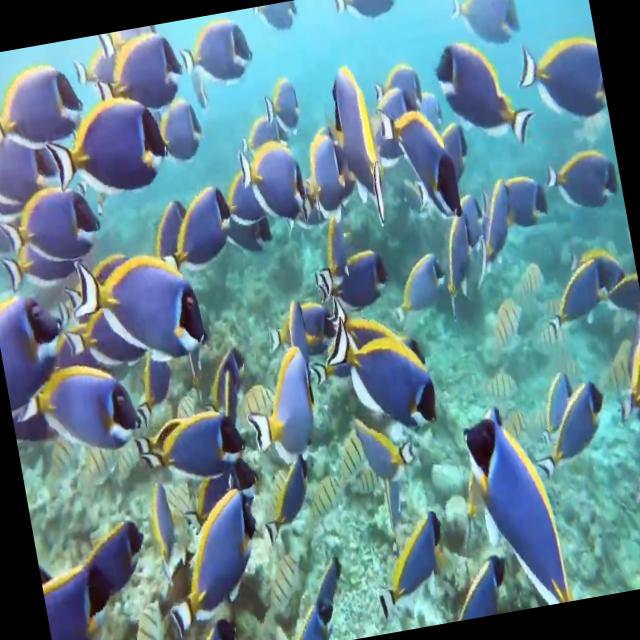fish: (454, 408, 578, 616), (74, 233, 209, 379), (151, 486, 278, 633), (0, 278, 93, 446), (327, 312, 442, 443), (32, 93, 172, 198), (19, 348, 144, 459), (430, 30, 536, 160), (376, 100, 469, 232), (318, 52, 390, 222), (232, 128, 324, 258), (0, 175, 107, 276), (238, 346, 326, 464), (366, 507, 462, 614), (0, 53, 89, 161), (525, 378, 617, 480), (516, 38, 610, 132), (145, 406, 250, 490), (294, 115, 362, 244), (89, 33, 185, 121), (531, 256, 617, 349), (462, 175, 530, 292), (164, 175, 243, 272), (170, 20, 256, 95), (386, 252, 458, 332), (311, 245, 394, 314), (535, 148, 620, 214), (138, 184, 197, 278), (445, 548, 520, 621), (354, 398, 420, 478), (444, 0, 526, 56), (260, 75, 306, 132)
